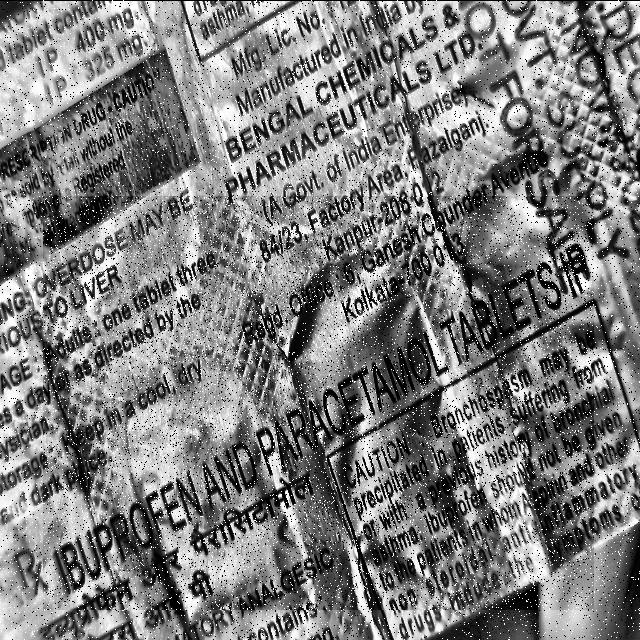IBUPROFEN AND PARACETAMOL TABLETS: (44, 196, 593, 609)
